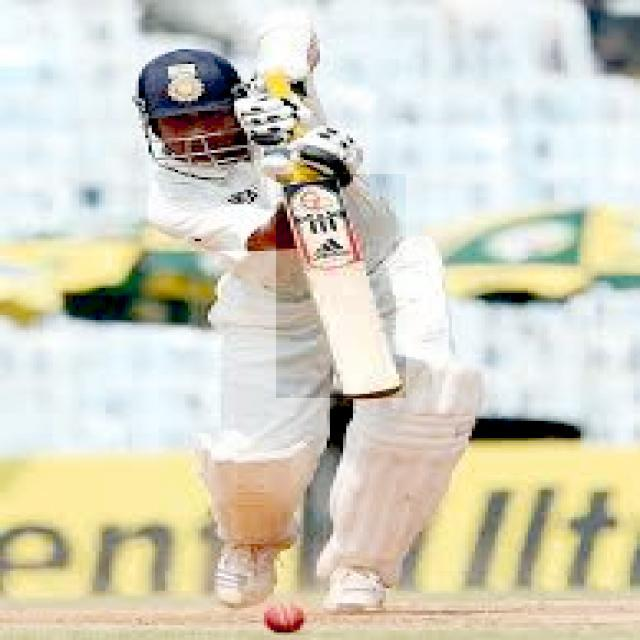bat: (281, 173, 402, 396)
toe: (339, 386, 409, 404)
